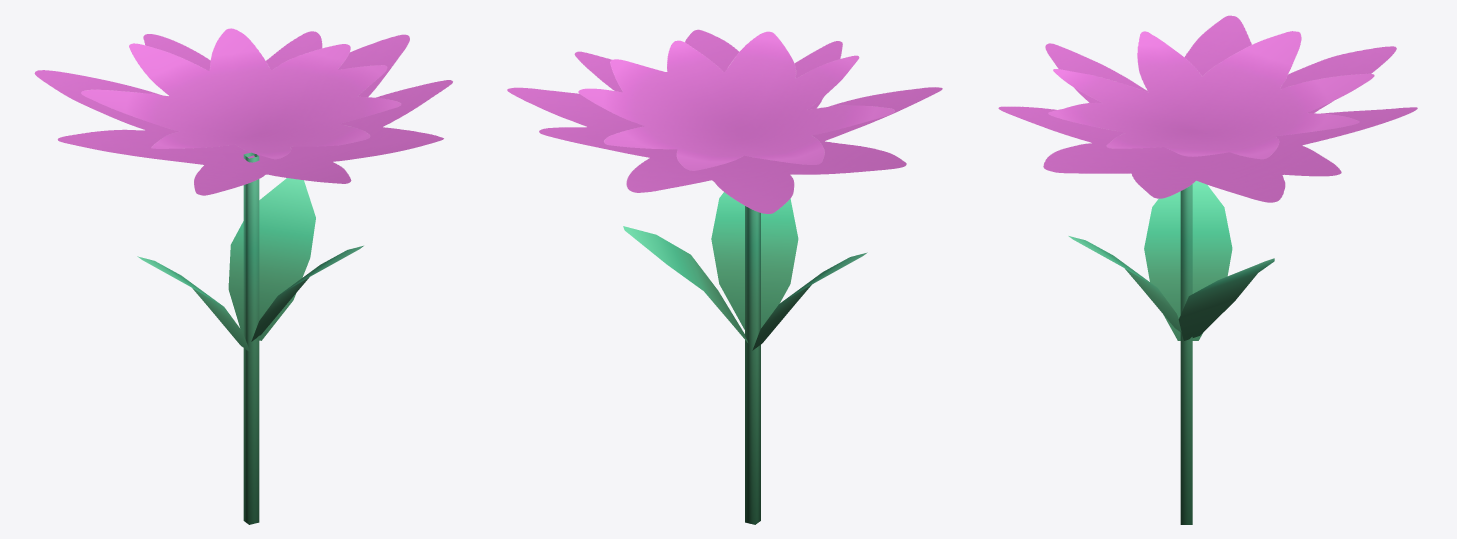
File: SM_Sw_Flower_02.fbx
The picture shows the model from 3 angles, left to right: view 1: azimuth 30°, elevation 25°; view 2: azimuth 150°, elevation 25°; view 3: azimuth 270°, elevation 25°; orthographic projection. The views are drawn at different scales.
Parts seen in each view (by area): view 1: SM_Sw_Flower_02; view 2: SM_Sw_Flower_02; view 3: SM_Sw_Flower_02.
Part boxes in pixels (x1=…): SM_Sw_Flower_02: x1=34, y1=28, x2=452, y2=524; SM_Sw_Flower_02: x1=507, y1=29, x2=942, y2=524; SM_Sw_Flower_02: x1=998, y1=15, x2=1417, y2=524.
Bounding box in the file's own units: 26.91 × 28.8 × 27.6.
